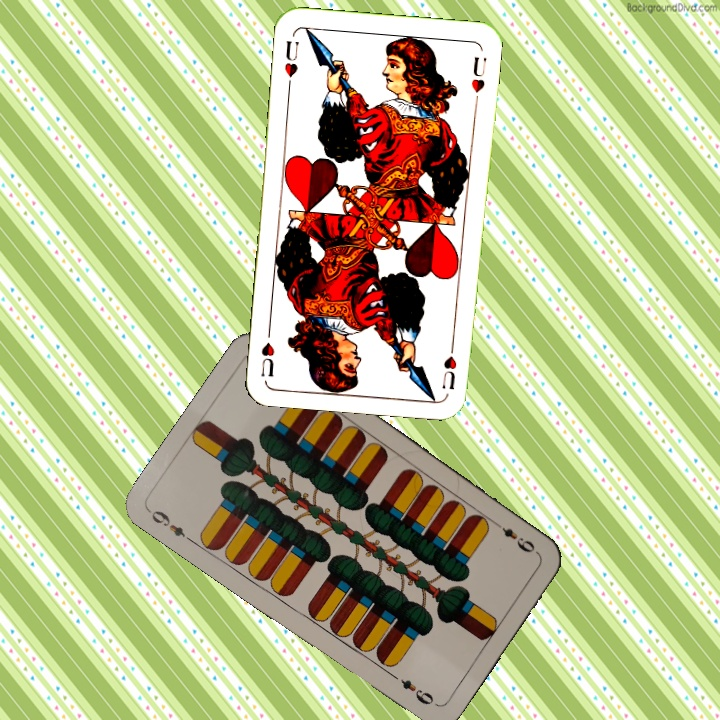E9: (145, 506, 196, 546), (491, 517, 538, 556)
HU: (438, 335, 460, 393), (280, 36, 301, 90)
